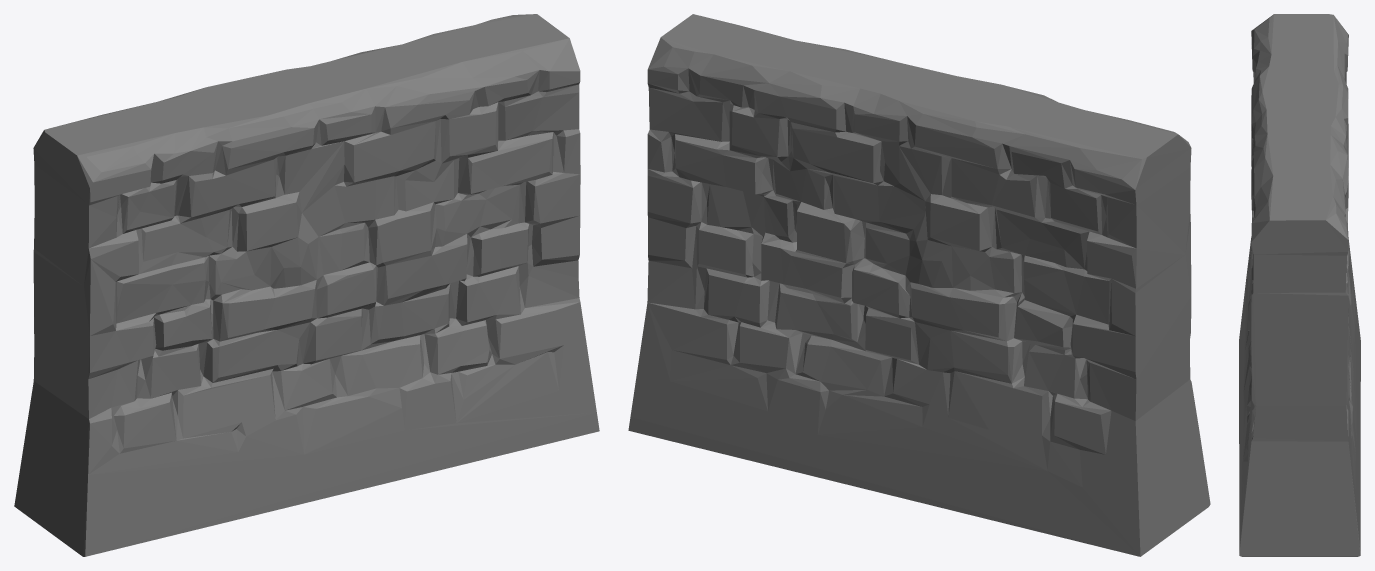
The model's file is village_wall_2x1m.FBX.
3 views of the same model, side by side, from view 1: azimuth 30°, elevation 25°; view 2: azimuth 150°, elevation 25°; view 3: azimuth 270°, elevation 25° (orthographic). The views are drawn at different scales.
Visible parts, largest first — view 1: village_wall_2x1m; view 2: village_wall_2x1m; view 3: village_wall_2x1m.
Boxes of the visible parts, x1,y1,x2,y2 form: village_wall_2x1m: (14,14,599,556); village_wall_2x1m: (628,14,1210,556); village_wall_2x1m: (1239,14,1360,556).
Bounding box in the file's own units: 2.1 × 1.5 × 0.4992.
